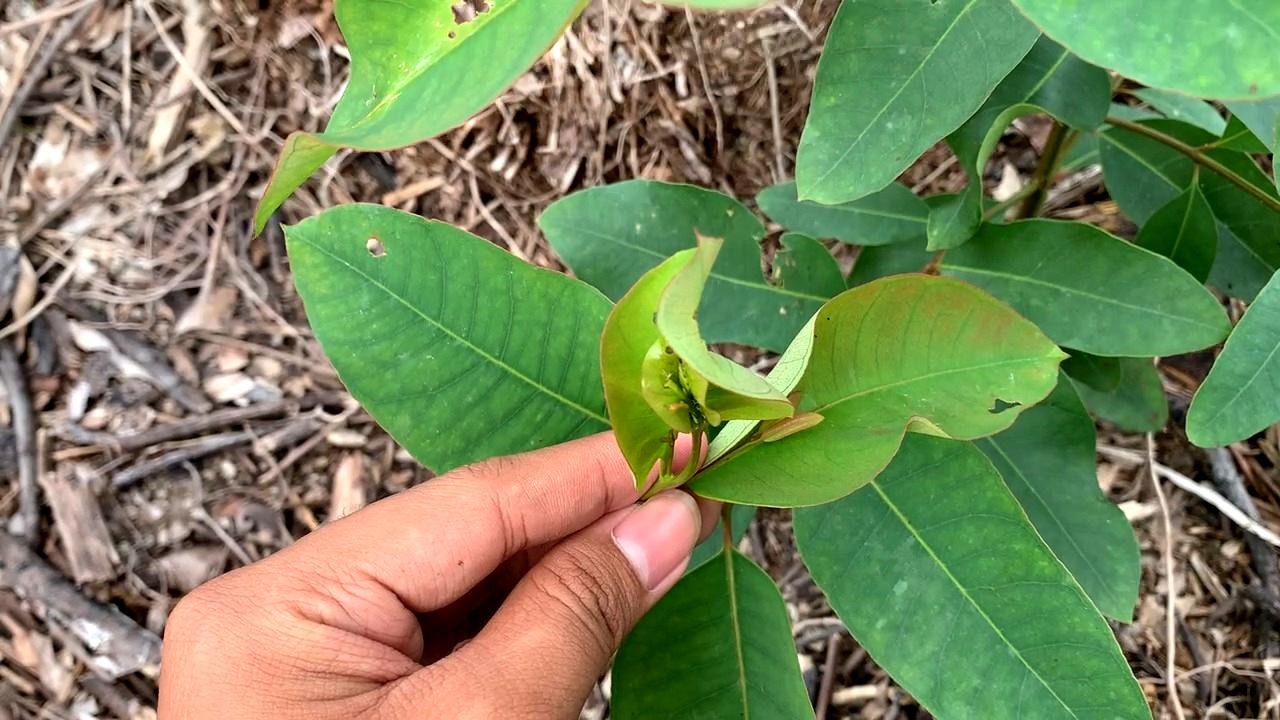Leaf Roller - Leaf: (603, 235, 797, 481)
